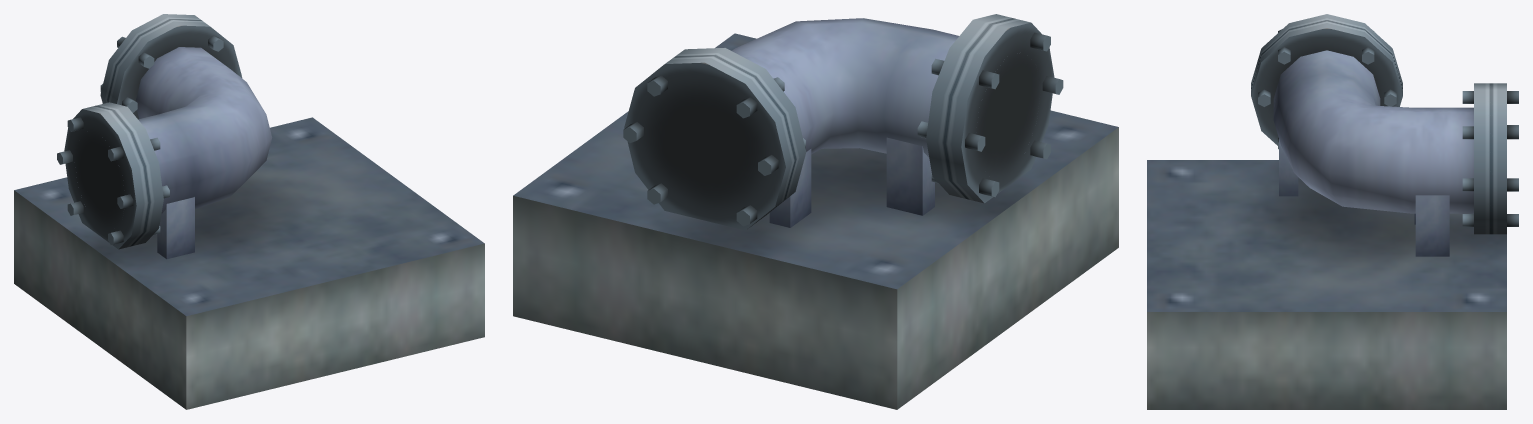
The model's file is ss_tile_pipe_corner_nw.obj.
3 views of the same model, side by side, from view 1: azimuth 30°, elevation 25°; view 2: azimuth 150°, elevation 25°; view 3: azimuth 270°, elevation 25° (orthographic). The views are drawn at different scales.
Visible parts, largest first — view 1: tile_boundary06; view 2: tile_boundary06; view 3: tile_boundary06.
Part boxes in pixels (x1,y1,x2,y2): tile_boundary06: [14, 14, 484, 409]; tile_boundary06: [513, 14, 1118, 409]; tile_boundary06: [1147, 14, 1518, 409].
Bounding box in the file's own units: 1.03 × 0.7476 × 1.03.
